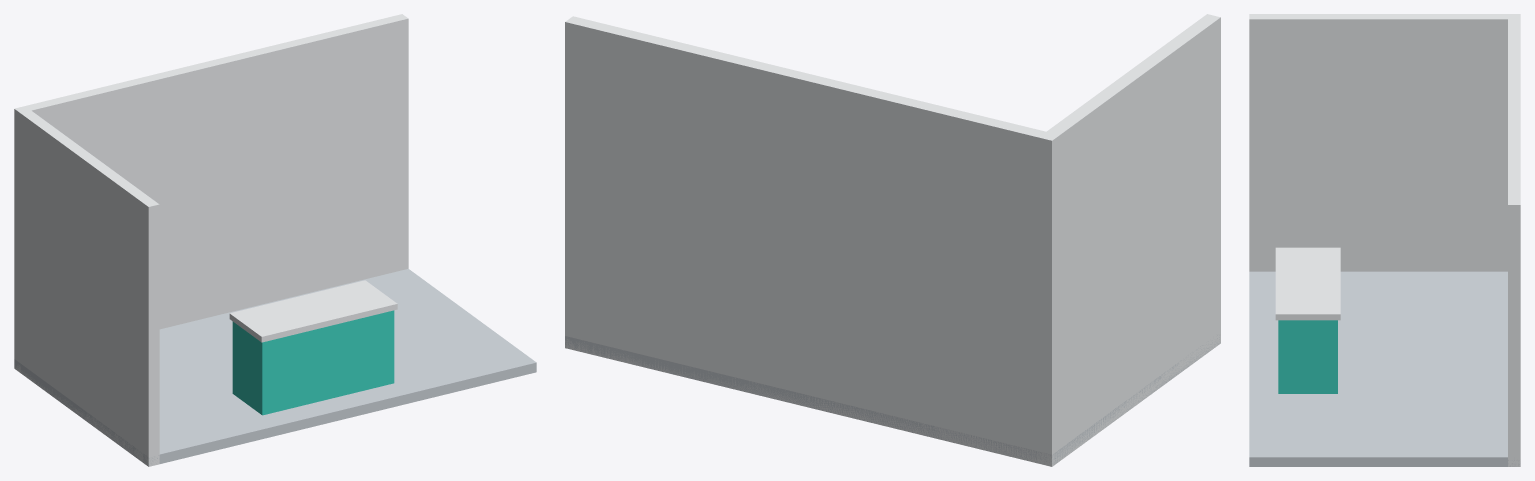
The picture shows the model from 3 angles, left to right: view 1: azimuth 30°, elevation 25°; view 2: azimuth 150°, elevation 25°; view 3: azimuth 270°, elevation 25°; orthographic projection. The views are drawn at different scales.
Visible parts, largest first — view 1: Exhibition Booth Concept; view 2: Exhibition Booth Concept; view 3: Exhibition Booth Concept.
Part boxes in pixels (<box>): Exhibition Booth Concept: <box>14,14,536,466</box>; Exhibition Booth Concept: <box>565,14,1220,466</box>; Exhibition Booth Concept: <box>1249,14,1520,466</box>.
Bounding box in the file's own units: 5 × 3.2 × 3.
